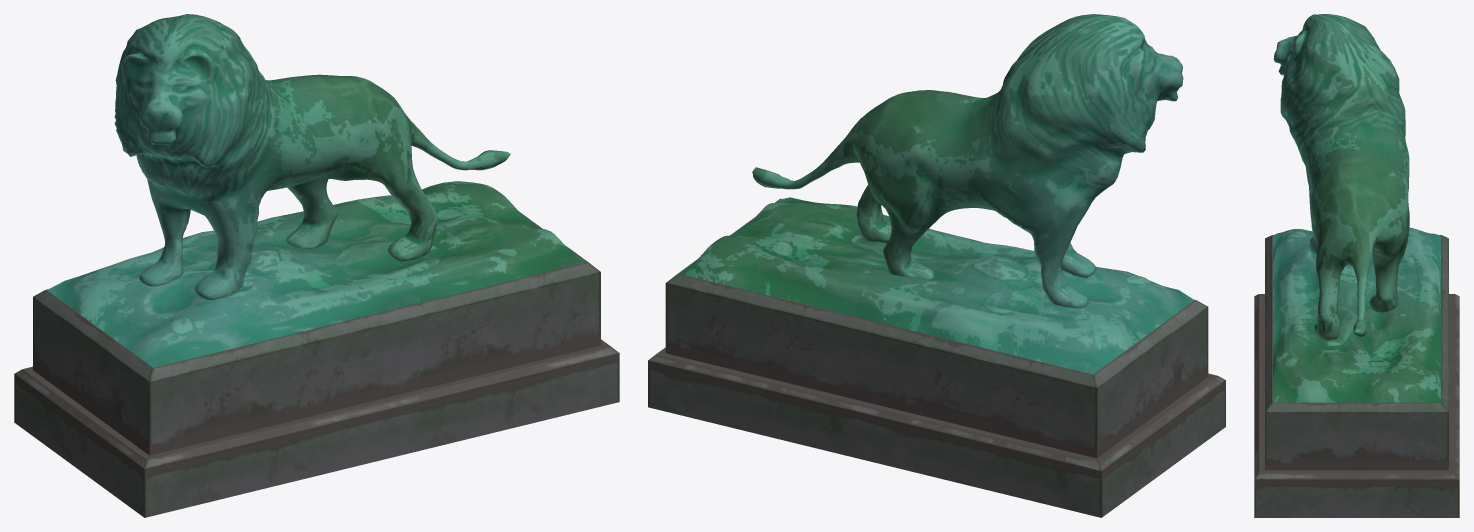
File: Lion_Low.fbx
3 views of the same model, side by side, from view 1: azimuth 30°, elevation 25°; view 2: azimuth 150°, elevation 25°; view 3: azimuth 270°, elevation 25° (orthographic). The views are drawn at different scales.
Visible parts, largest first — view 1: pCube142, Lion_Body, Lion_Ground; view 2: pCube142, Lion_Body, Lion_Ground; view 3: Lion_Body, pCube142, Lion_Ground.
Part boxes in pixels (<box>): pCube142: <box>14,212,619,517</box>; Lion_Body: <box>114,14,510,299</box>; Lion_Ground: <box>47,181,586,367</box>; pCube142: <box>648,198,1225,517</box>; Lion_Body: <box>752,14,1183,308</box>; Lion_Ground: <box>679,197,1194,374</box>; Lion_Body: <box>1273,14,1409,340</box>; pCube142: <box>1254,235,1459,517</box>; Lion_Ground: <box>1273,227,1440,402</box>.
Bounding box in the file's own units: 8.08 × 7.21 × 3.84.
2 materials, 2 textured.
